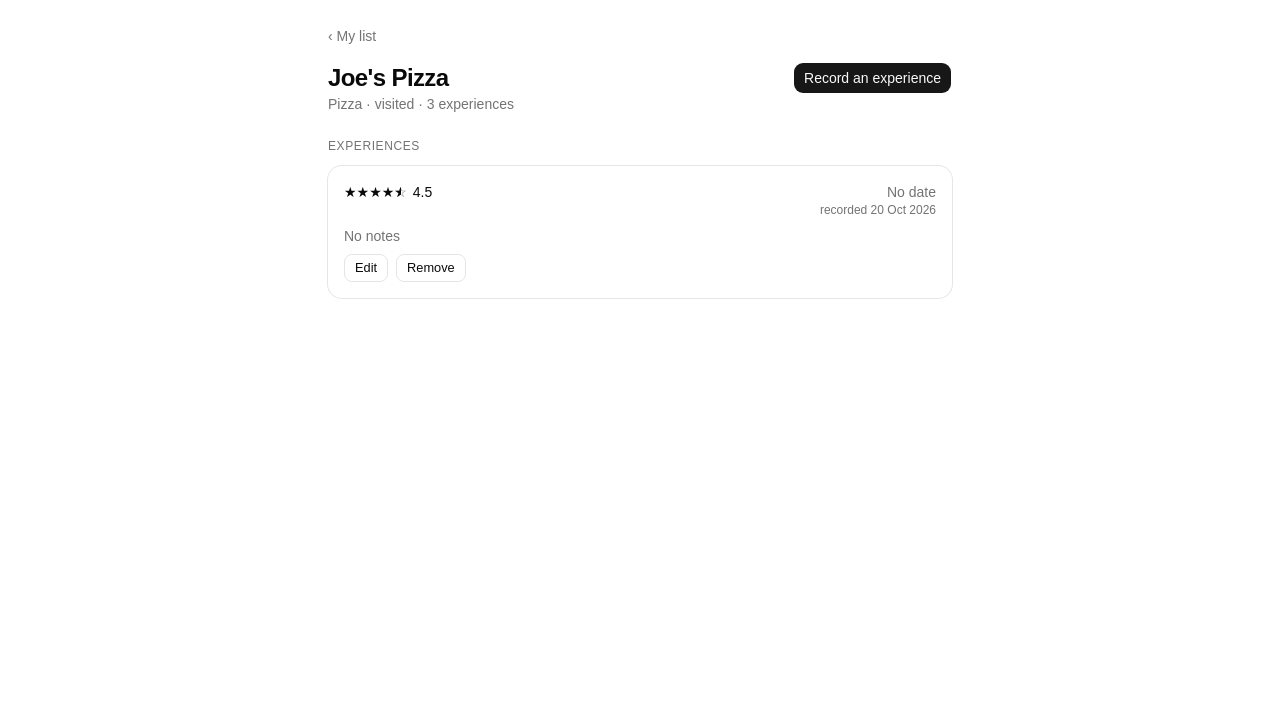
Scenario: changing an experience › clearing the last thing it says › takes Save away rather than offering an empty change
Click the button "Edit": click(366, 268) x1=344 y1=254 x2=388 y2=282
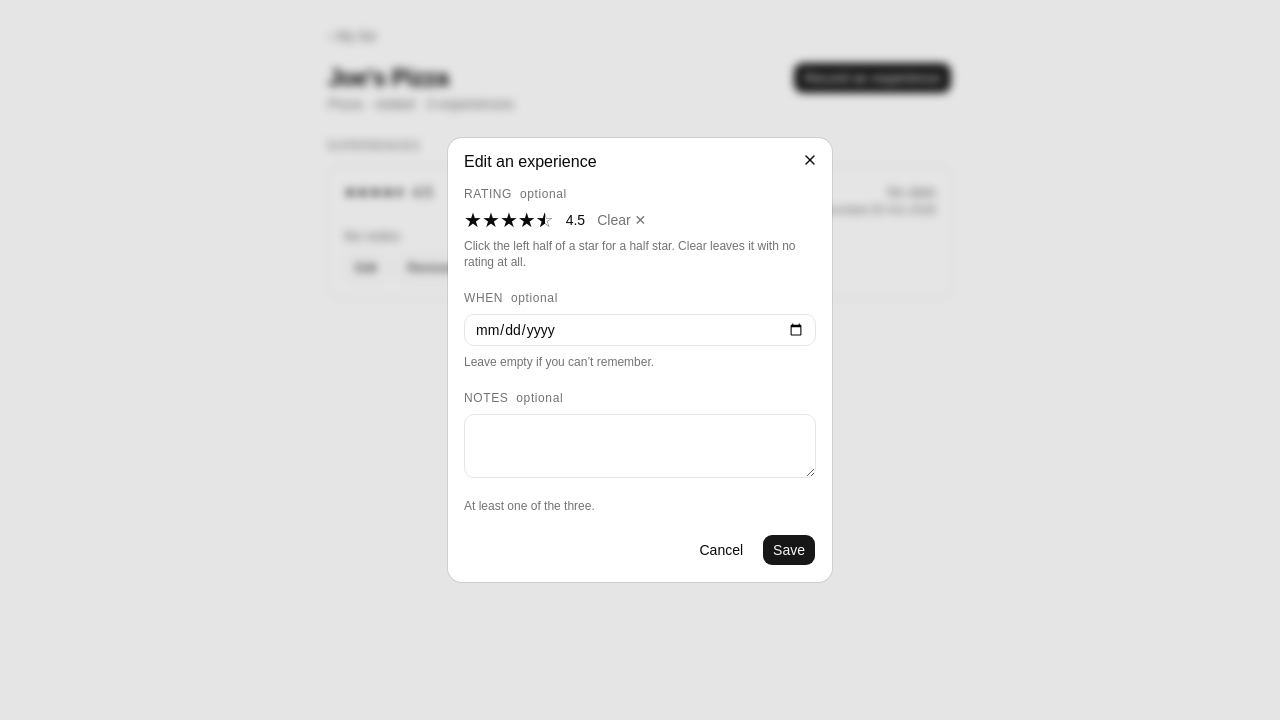
Now the heading "Edit an experience" is shown, box x1=464 y1=153 x2=596 y2=170
Now the button "Save" is enabled, box x1=762 y1=534 x2=816 y2=566
Click the button with aria-label "Clear rating": click(622, 220) x1=597 y1=210 x2=646 y2=230
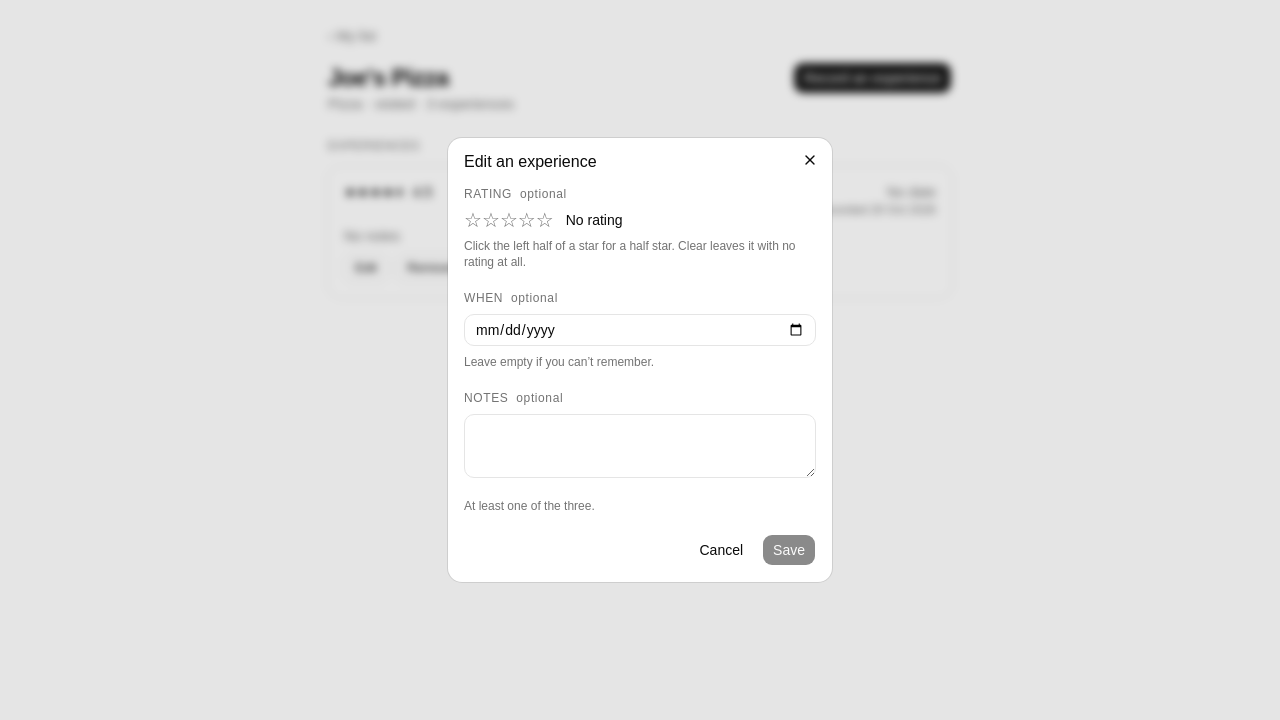
Now the button "Save" is disabled, box x1=762 y1=534 x2=816 y2=566
